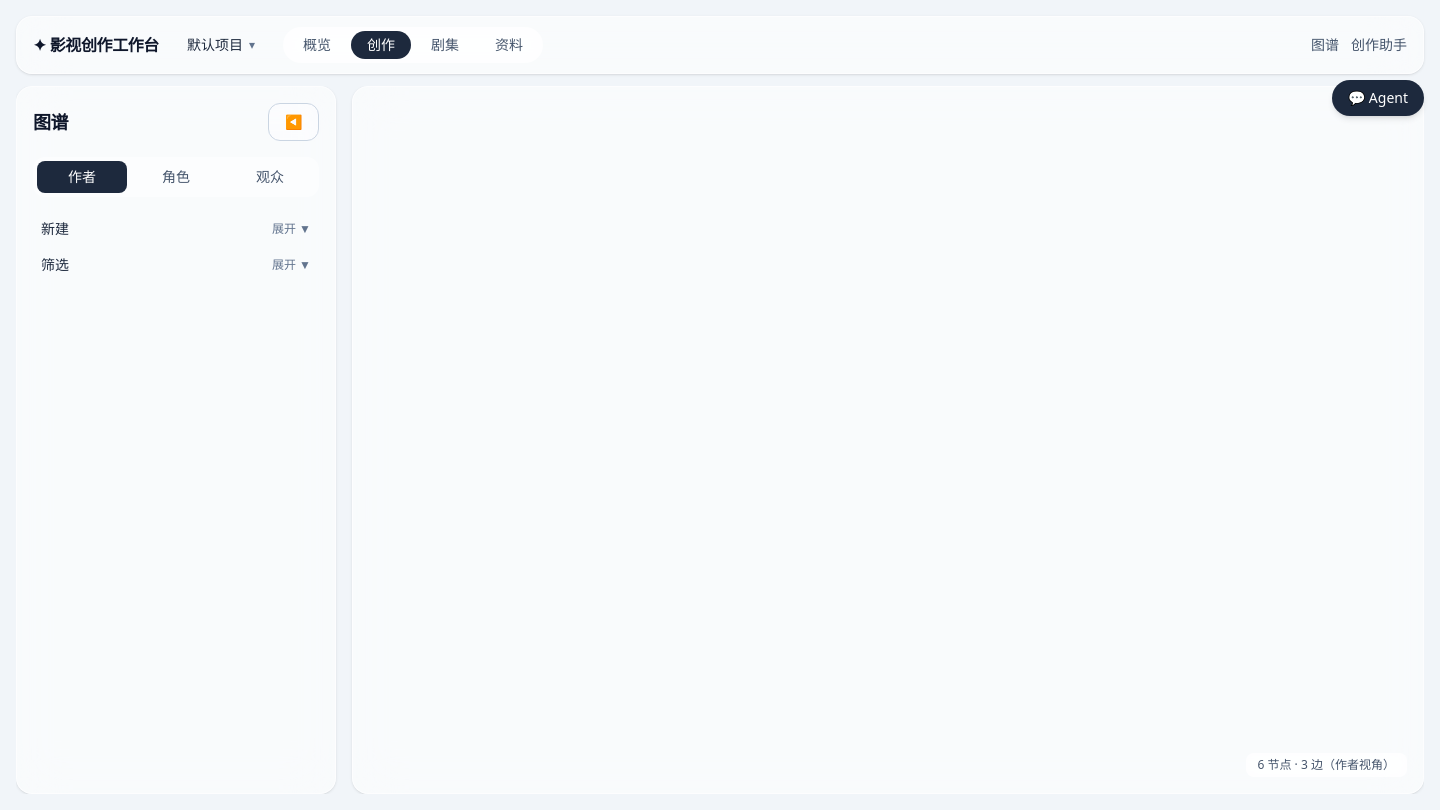
Scenario: 视角切换集成（F06 I1–I5） › I4: character 视角 403 → alert 展示三要素（problem+fix）不白屏
Check: the text with test id "graph-stats" shows "6 节点 · 3 边", box [1246, 753, 1407, 777]
// 设计依据: 无效等价类—角色不存在等服务端拒绝的前端呈现
Click the button with test id "perspective-character" at (176, 177), box [131, 161, 221, 193]
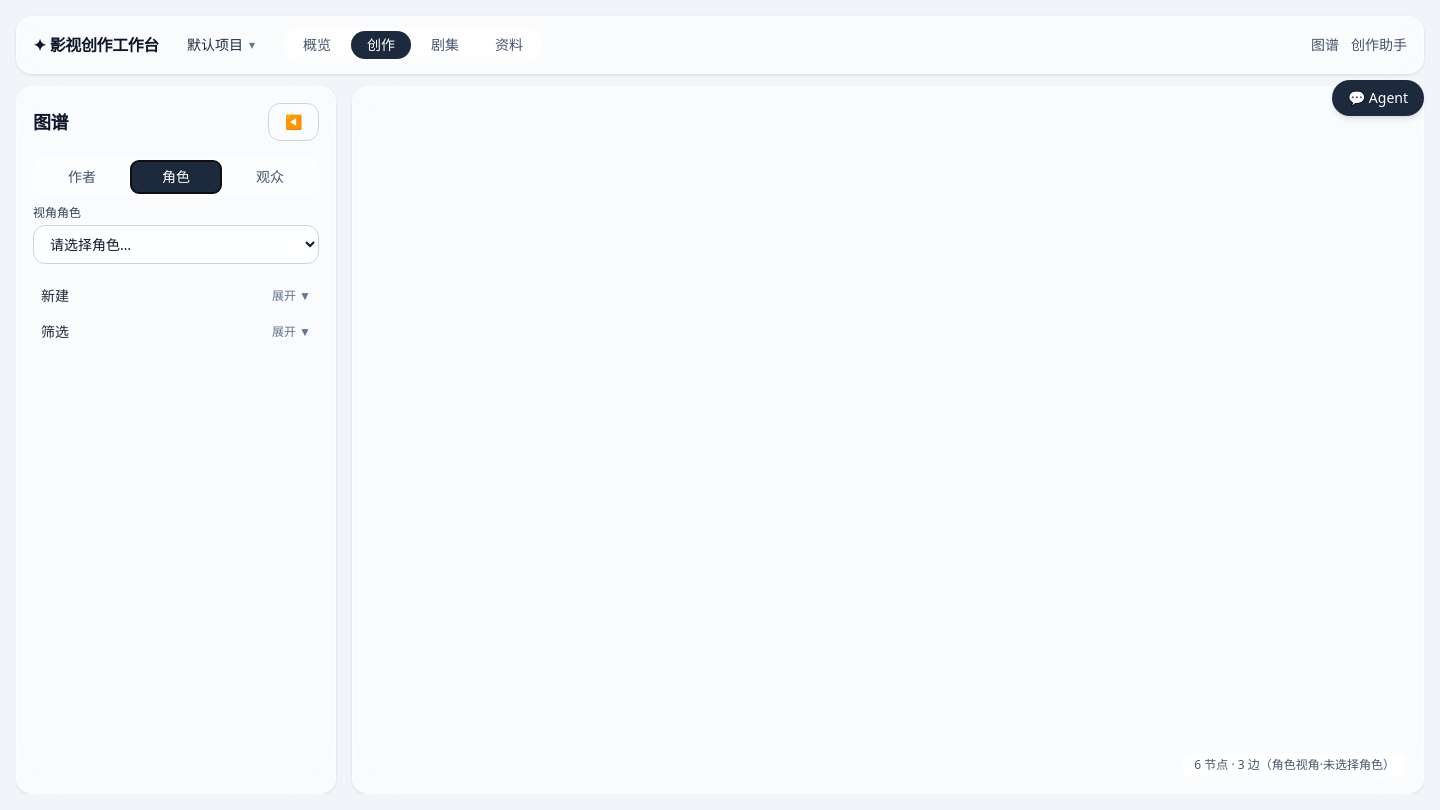
Select "沈墨" in the dropdown with test id "character-select" at (176, 244), box [33, 225, 319, 264]
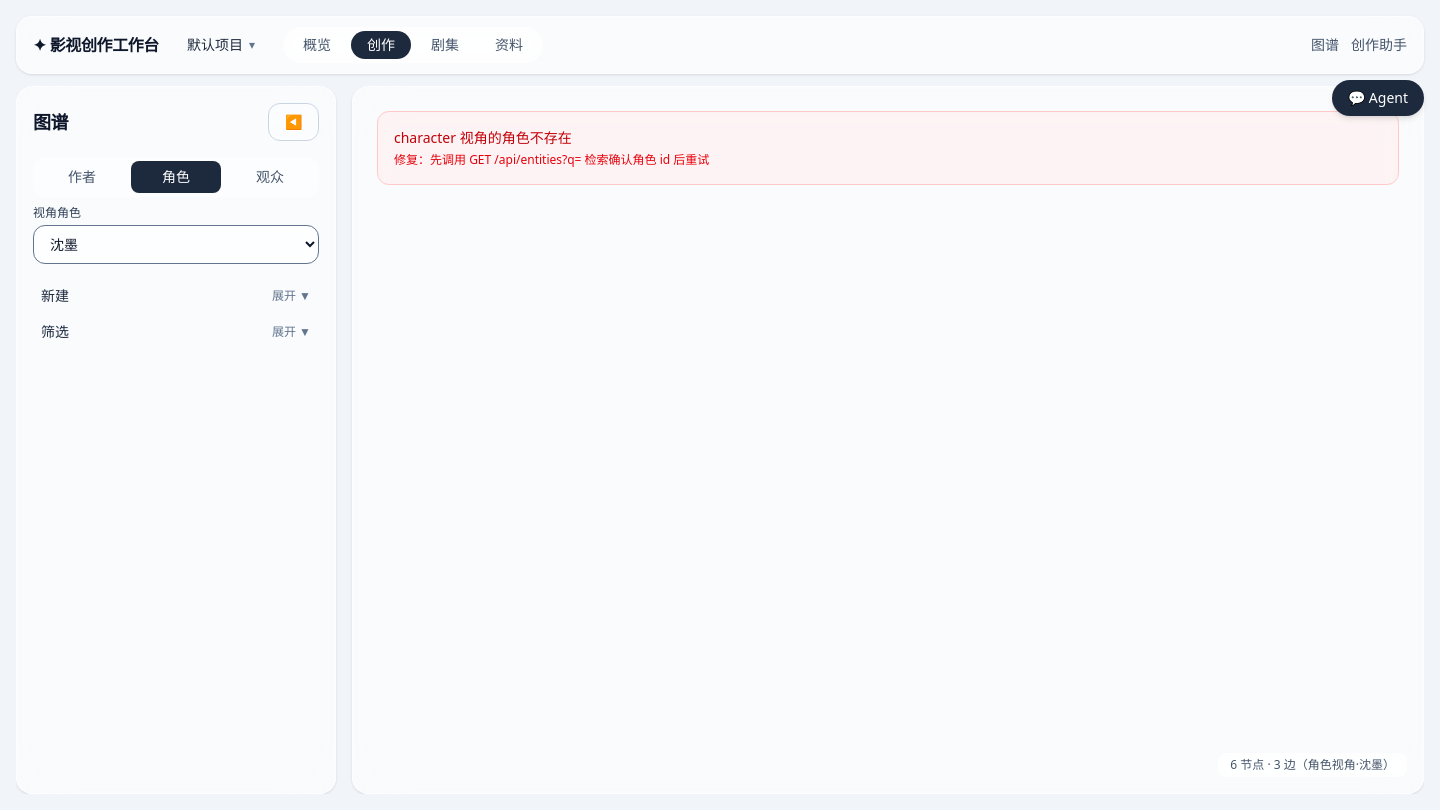
Check: the message shows "character 视角的角色不存在", box [394, 128, 572, 147]
Check: the message shows "先调用 GET /api/entities?q= 检索确认角色 id 后重试", box [430, 151, 709, 168]
